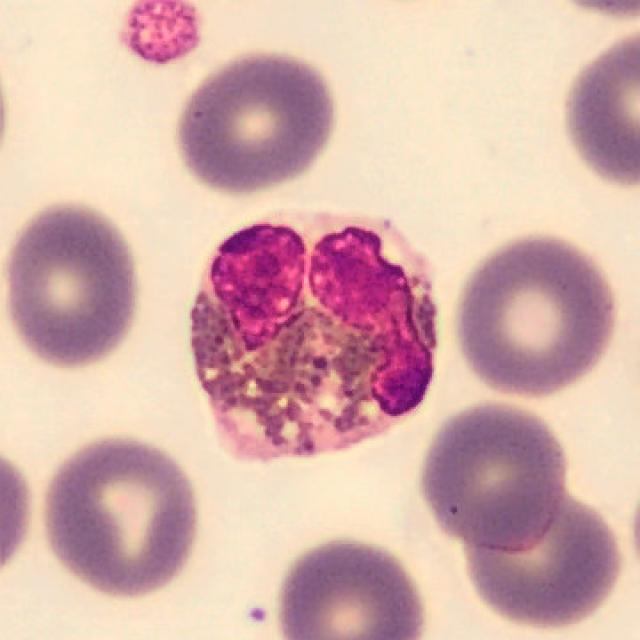Eosinofilo: (188, 208, 439, 464)
